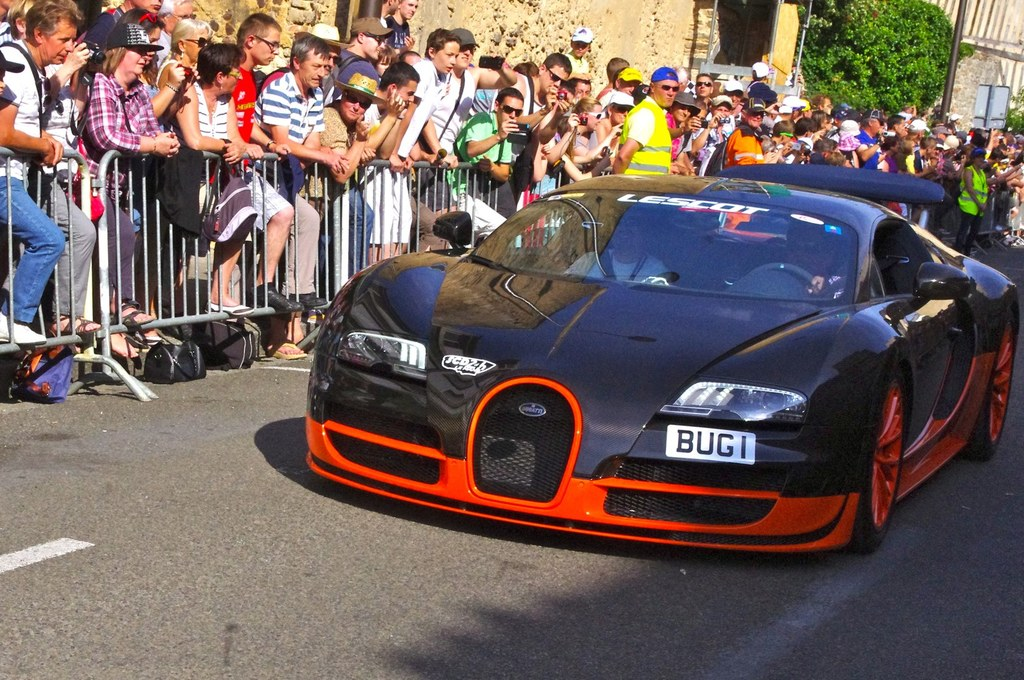person: (563, 211, 680, 285)
